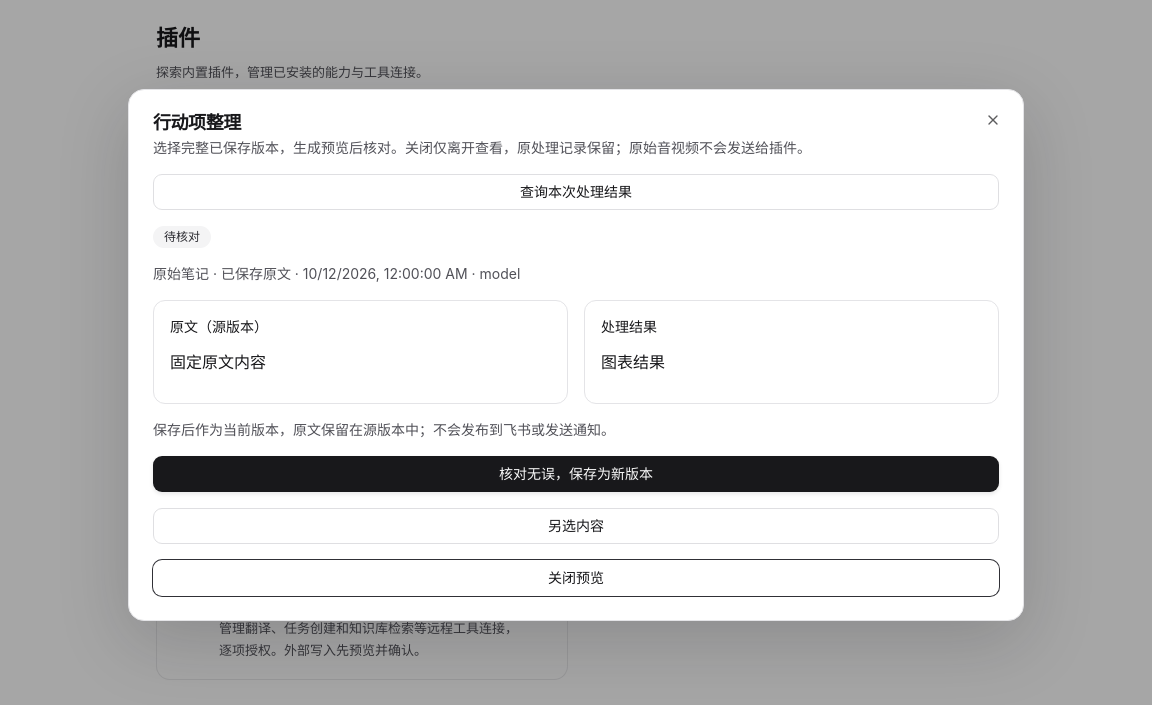
Test: closing a ready preview neither saves nor loses the original recovery operation
This screenshot has width=1152, height=705.
Check: the text "图表结果" is shown, box [601, 352, 665, 372]
What coordinates should you click on to do the following:
click the button "关闭预览"
I would click on:
 (576, 578)
Its box is [153, 560, 999, 596].
(page scrolled)
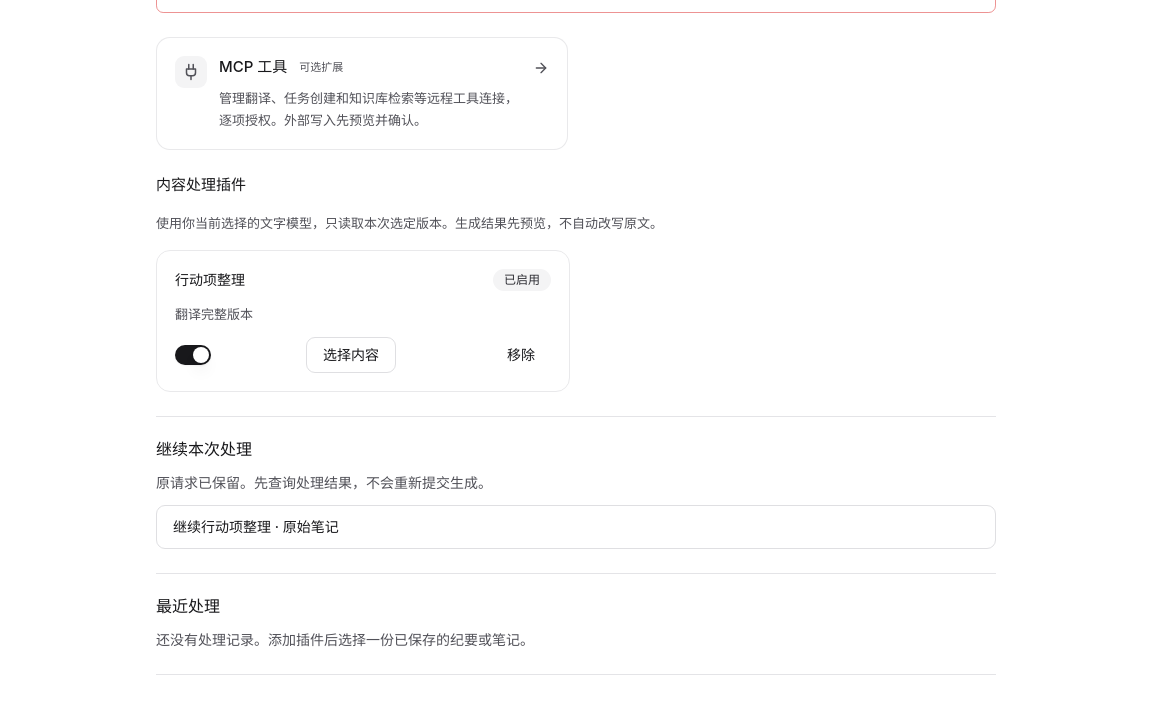
Check: the dialog is gone
What coordinates should you click on to do the following:
click the button "选择内容"
I would click on:
 (351, 355)
Its box is [306, 337, 396, 373].
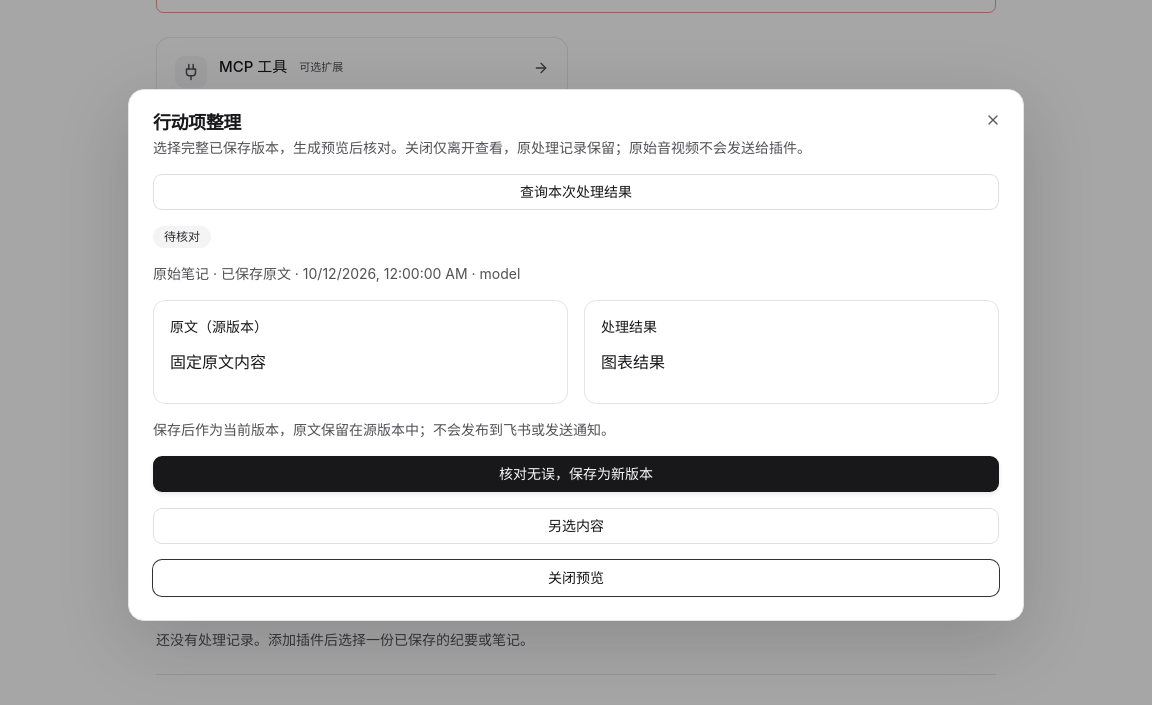
Check: the text "图表结果" is shown, box [601, 352, 665, 372]
